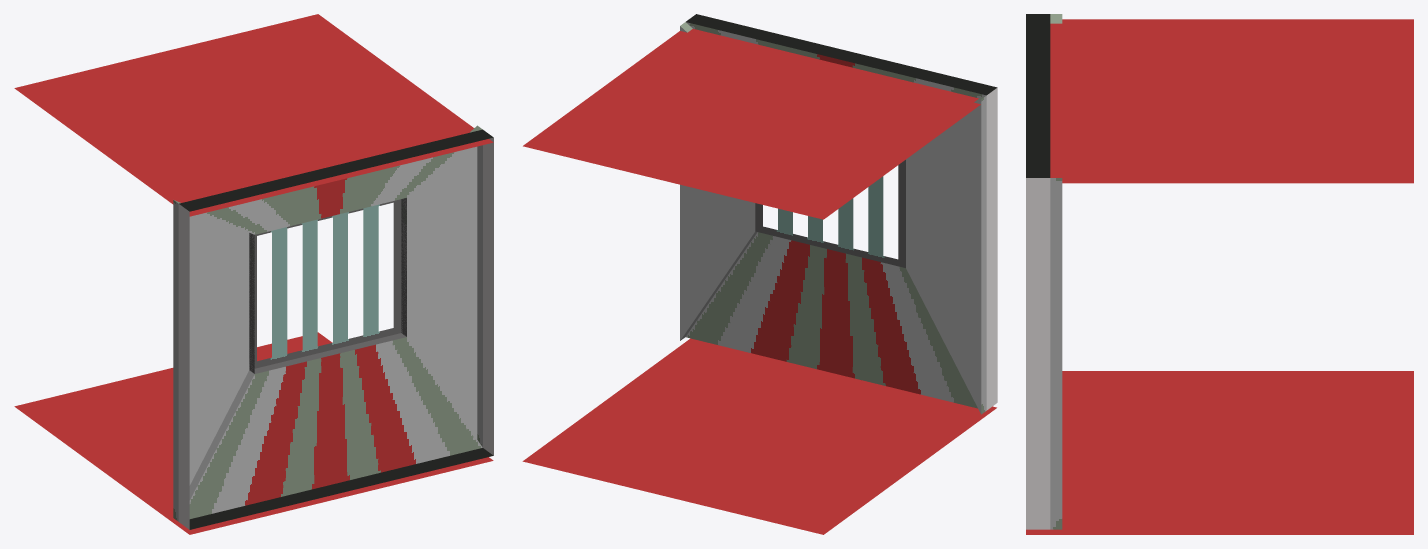
The model's file is RedServerDoor.gltf.
3 views of the same model, side by side, from view 1: azimuth 30°, elevation 25°; view 2: azimuth 150°, elevation 25°; view 3: azimuth 270°, elevation 25° (orthographic). The views are drawn at different scales.
Parts seen in each view (by area): view 1: serverdoor, floor (×2); view 2: floor (×2), serverdoor; view 3: floor (×2), serverdoor.
Boxes of the visible parts, <box> form: serverdoor: <box>173,125,493,529</box>; floor (×2): <box>14,14,493,534</box>; floor (×2): <box>522,29,996,534</box>; serverdoor: <box>680,14,997,414</box>; floor (×2): <box>1026,19,1413,534</box>; serverdoor: <box>1026,14,1062,529</box>.
Bounding box in the file's own units: 2 × 2.03 × 2.
2 materials, 2 textured.
